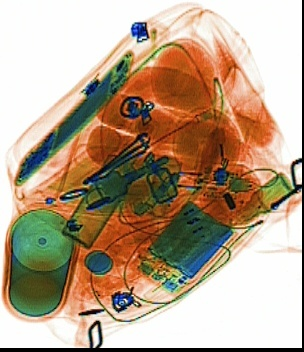powerbank: (126, 197, 234, 296)
